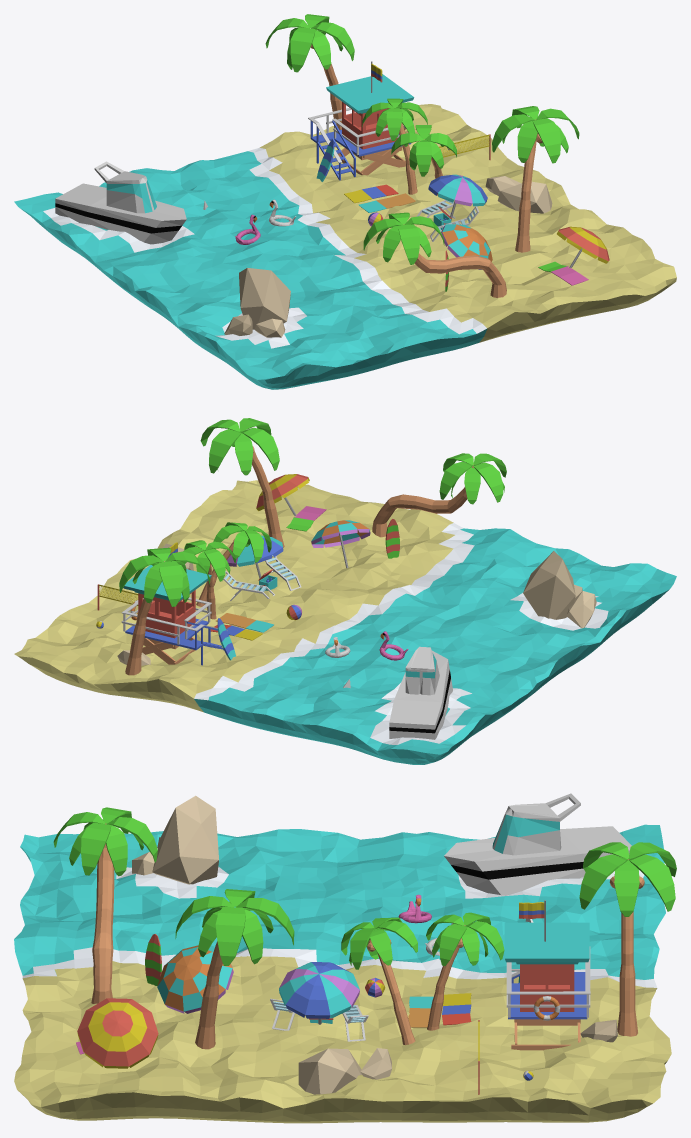
The model's file is beach.glb.
3 views of the same model, one above another, from view 1: azimuth 30°, elevation 25°; view 2: azimuth 150°, elevation 25°; view 3: azimuth 270°, elevation 25° (orthographic). The views are drawn at different scales.
Visible parts, largest first — view 1: SEA, SAND, FOAM, YACHT, CABIN, ROCKS, PALM1, PALM5, PALM4, PALM2, PALM3, UMBRELLA1 (+4 smaller); view 2: SEA, SAND, FOAM, CABIN, YACHT, PALM5, PALM1, PALM4, ROCKS, PALM3, PALM2, UMBRELLA3 (+5 smaller); view 3: SAND, SEA, YACHT, CABIN, ROCKS, PALM4, PALM5, PALM1, FOAM, UMBRELLA2, UMBRELLA1, PALM2 (+6 smaller).
Boxes of the visible parts, bbox=[...] form: SEA: bbox=[14, 151, 487, 389]; SAND: bbox=[260, 104, 676, 342]; FOAM: bbox=[43, 147, 486, 348]; YACHT: bbox=[55, 161, 186, 244]; CABIN: bbox=[308, 74, 414, 180]; ROCKS: bbox=[224, 176, 552, 337]; PALM1: bbox=[492, 106, 579, 252]; PALM5: bbox=[363, 212, 506, 297]; PALM4: bbox=[265, 14, 354, 129]; PALM2: bbox=[362, 98, 427, 194]; PALM3: bbox=[391, 125, 456, 195]; UMBRELLA1: bbox=[428, 174, 487, 220]; SEA: bbox=[194, 528, 676, 764]; SAND: bbox=[14, 480, 454, 712]; FOAM: bbox=[194, 523, 608, 744]; CABIN: bbox=[121, 565, 227, 665]; YACHT: bbox=[389, 646, 452, 739]; PALM5: bbox=[372, 453, 506, 537]; PALM1: bbox=[200, 418, 284, 547]; PALM4: bbox=[119, 547, 210, 675]; ROCKS: bbox=[117, 543, 596, 665]; PALM3: bbox=[196, 522, 271, 606]; PALM2: bbox=[181, 540, 236, 619]; UMBRELLA3: bbox=[311, 520, 370, 568]; SAND: bbox=[14, 956, 671, 1123]; SEA: bbox=[14, 824, 665, 979]; YACHT: bbox=[444, 793, 631, 895]; CABIN: bbox=[504, 922, 590, 1050]; ROCKS: bbox=[132, 795, 617, 1094]; PALM4: bbox=[579, 842, 676, 1036]; PALM5: bbox=[53, 807, 157, 1003]; PALM1: bbox=[175, 889, 294, 1049]; FOAM: bbox=[22, 848, 657, 987]; UMBRELLA2: bbox=[77, 998, 158, 1068]; UMBRELLA1: bbox=[279, 962, 359, 1024]; PALM2: bbox=[426, 912, 504, 1030].
Size of the model in its own units: 125 by 42.74 by 127.
